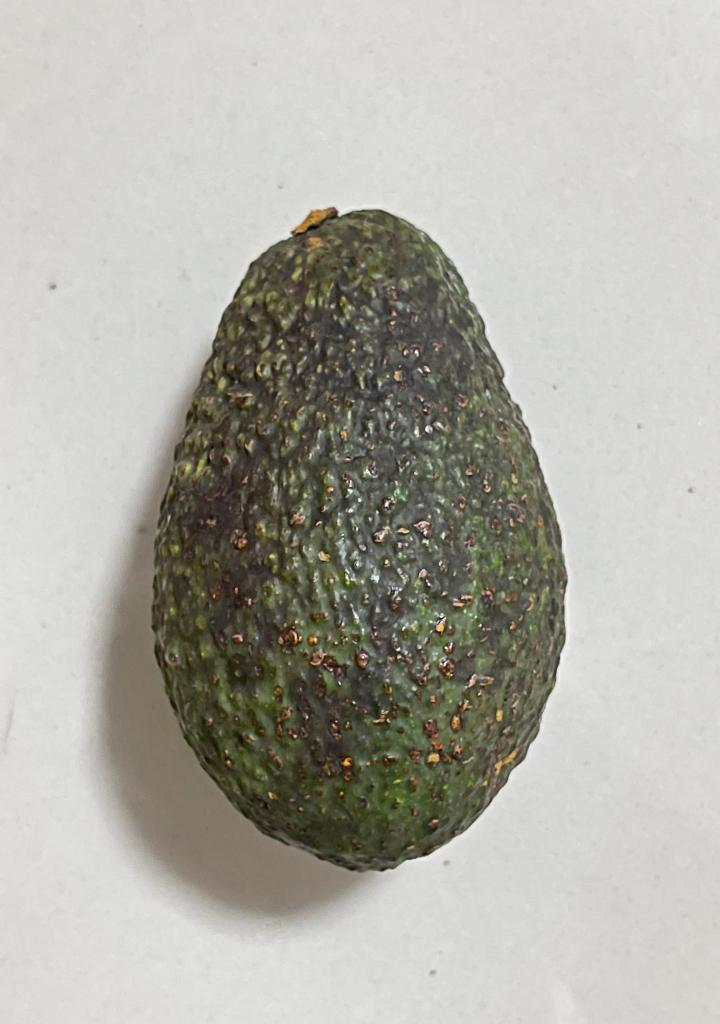Level1: (134, 178, 590, 885)
